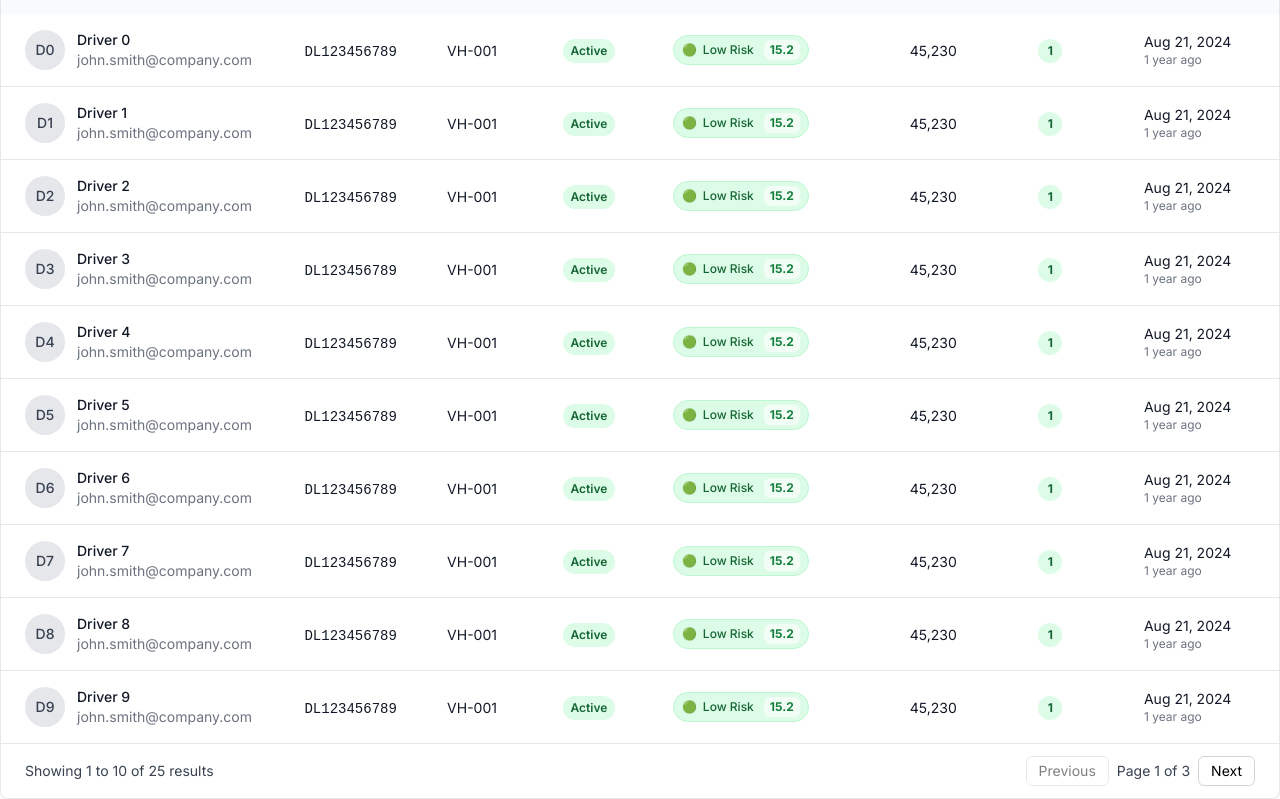
Test case: DriverTable Accessibility & Integration Tests › supports pagination with keyboard navigation
(page scrolled)
Note: Click the next button
Click the button "Next".
click(1227, 771)  # box [1198,756,1255,786]
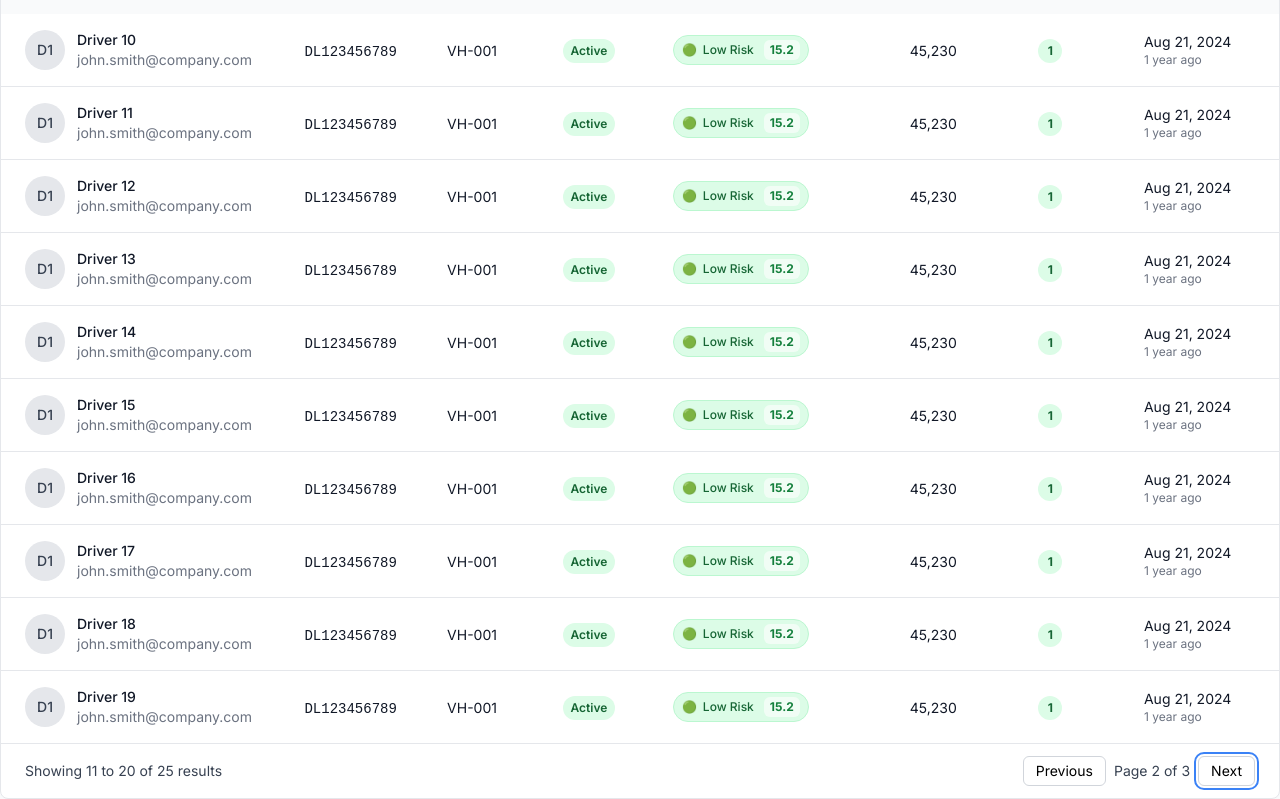
Check: the text "Page 2 of 3" is shown, box [1114,761,1190,781]
